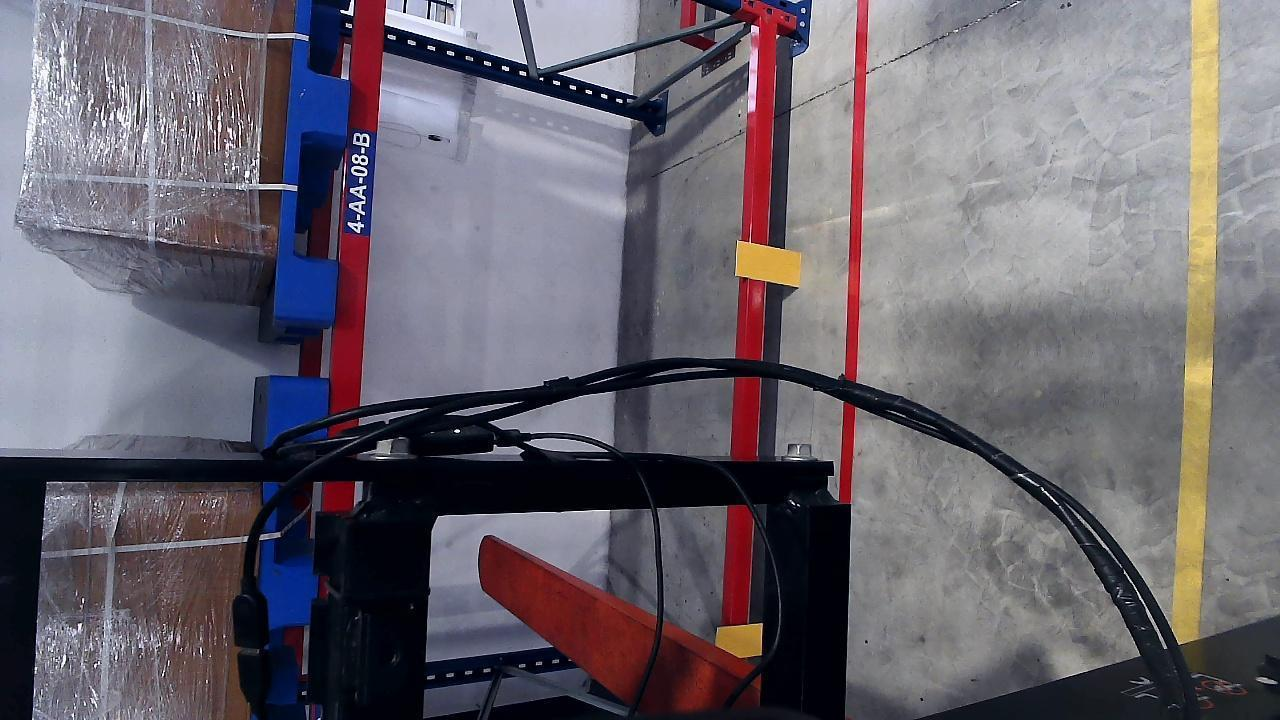red_line: (834, 4, 868, 503)
yellow_line: (1168, 0, 1220, 646)
